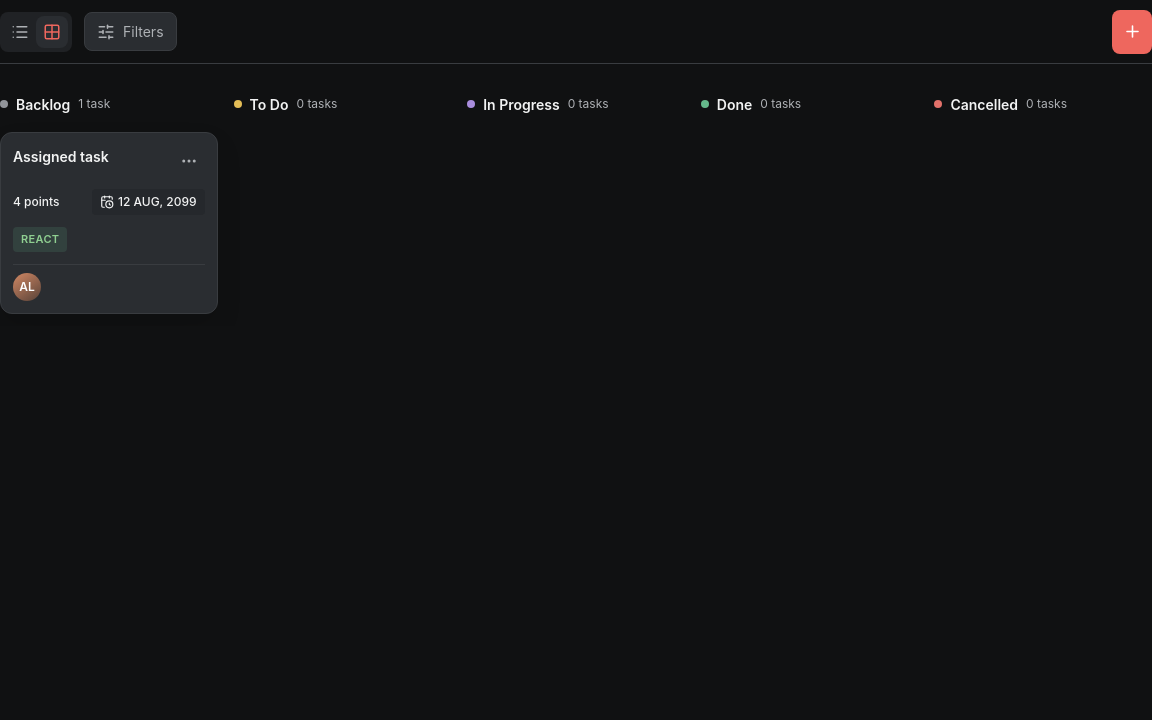
Scenario: DashboardPage assignee column › names who holds each task, with their avatar
Expected: the element named "Task board" is shown, [0, 64, 1151, 326]
What coordinates should you click on to do the following:
click the button named "Task view"
I would click on:
 (20, 32)
Its box is [4, 16, 36, 48].
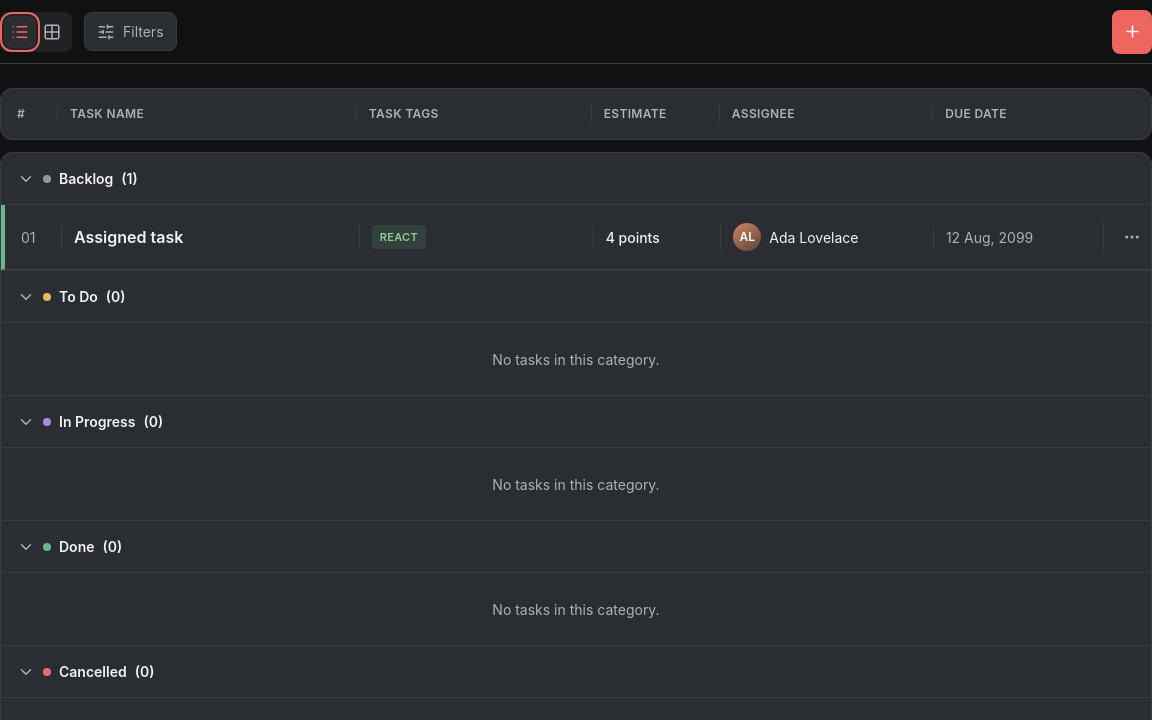
Expected: the text "Assignee" is shown, [719, 105, 932, 123]
Expected: the text "Ada Lovelace" is shown, [769, 226, 858, 248]
